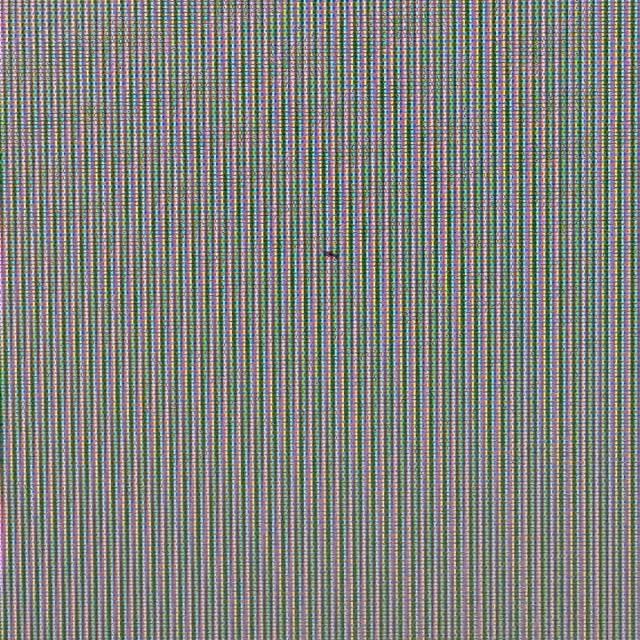Dead pixel: (322, 250, 340, 258)
